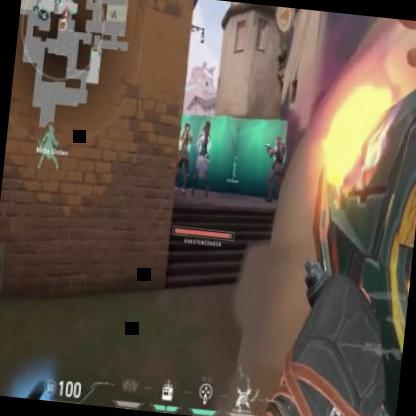enemy: (259, 132, 288, 204), (189, 120, 216, 196), (172, 122, 194, 197)
enemy_head: (201, 123, 210, 136), (183, 122, 191, 133), (275, 136, 282, 146)
